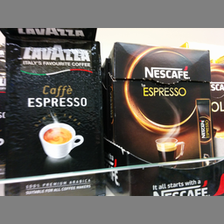coffee: (4, 36, 105, 197), (110, 40, 215, 171)
